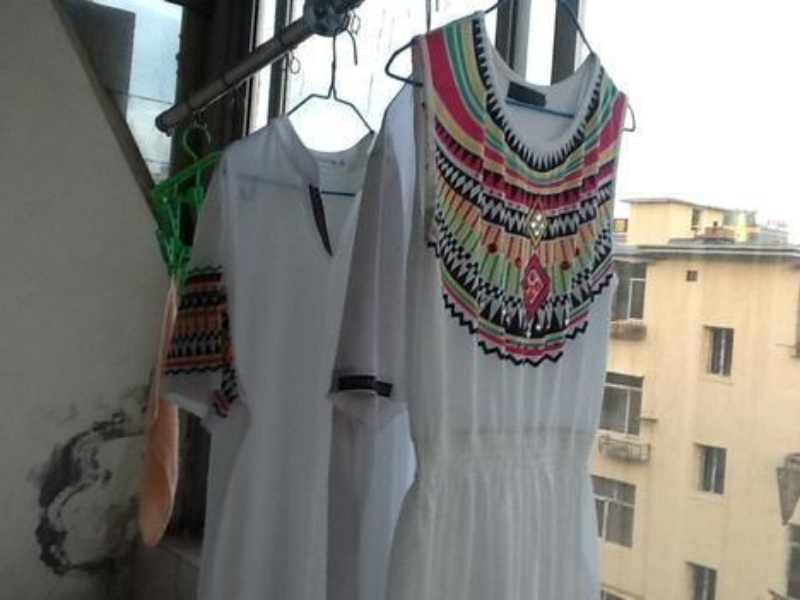short_sleeved_shirt: (152, 108, 497, 598)
vest_dress: (379, 9, 631, 598)
